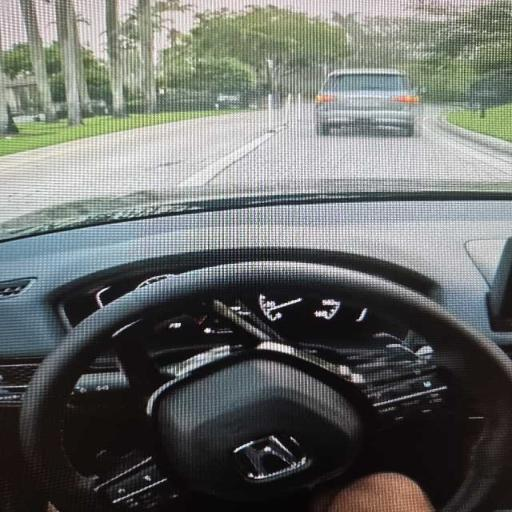car: (316, 69, 419, 136)
lane: (0, 111, 267, 222), (212, 106, 511, 187)
person: (313, 473, 434, 511)
